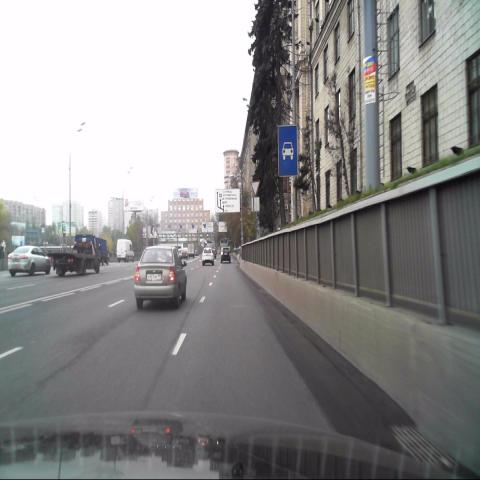5_3: (278, 125, 297, 177)
